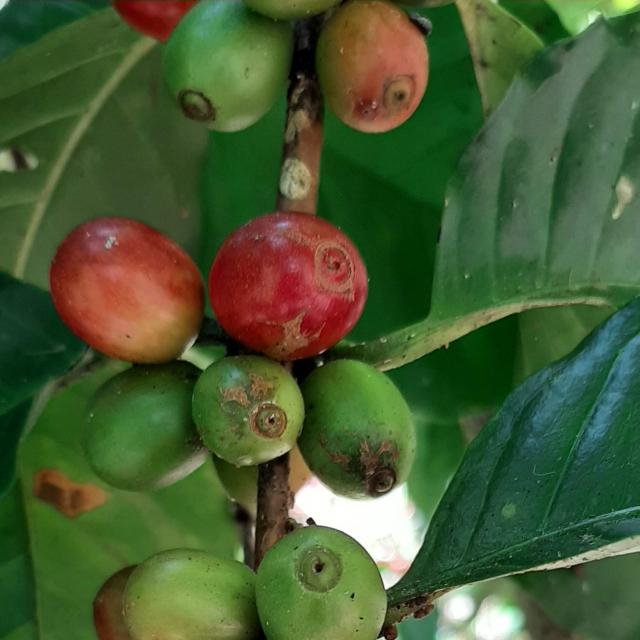green: (162, 1, 292, 131), (80, 361, 208, 492), (298, 360, 416, 499), (256, 526, 387, 640), (192, 355, 304, 466), (124, 550, 262, 640), (213, 455, 258, 517)
red: (208, 211, 368, 361)
yellow: (48, 217, 204, 363), (317, 0, 429, 133), (92, 566, 136, 640)
